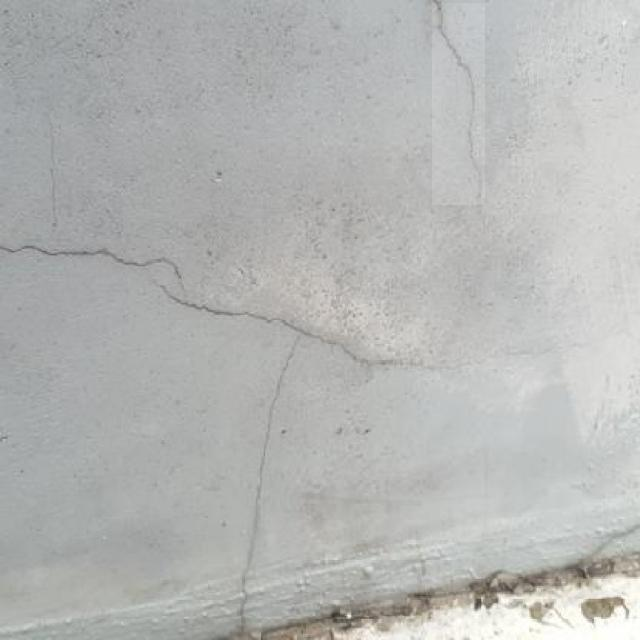horizontal crack: (3, 241, 184, 287)
multi-branched crack: (158, 281, 456, 615)
vertical crack: (432, 3, 485, 204)
